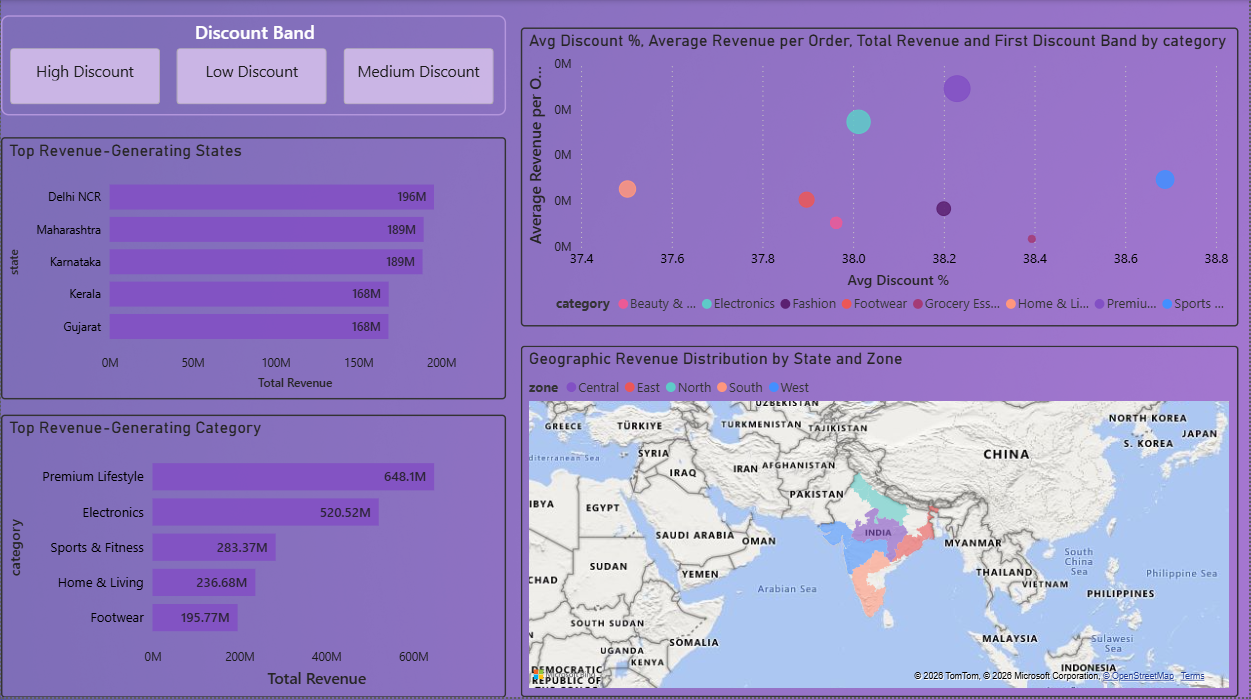

The page's visual inventory and layout, read from the dashboard file:
{"tool":"powerbi","page":{"name":"Executive Revenue Overview","canvas":[1280,720],"ordinal":1},"visuals":[{"type":"scatterChart","fields":{"X":["ecommerce_analytics ecommerce_pricing_revenue.Avg Discount %"],"Y":["ecommerce_analytics ecommerce_pricing_revenue.Average Revenue per Order"],"Size":["ecommerce_analytics ecommerce_pricing_revenue.Total Revenue"],"Series":["ecommerce_analytics ecommerce_pricing_revenue.category"]},"box":[533,33.3,735.6,306.7],"z":0},{"type":"advancedSlicerVisual","fields":{"Values":["ecommerce_analytics ecommerce_pricing_revenue.Discount Band"]},"box":[0,20.8,517.7,102.7],"z":1000},{"type":"clusteredBarChart","title":"Top Revenue-Generating Category","fields":{"Category":["ecommerce_analytics ecommerce_pricing_revenue.category"],"Y":["ecommerce_analytics ecommerce_pricing_revenue.Total Revenue"]},"box":[0,430.3,517.7,290.1],"z":2000},{"type":"filledMap","title":"Geographic Revenue Distribution by State and Zone","fields":{"Series":["ecommerce_analytics ecommerce_pricing_revenue.zone"],"Category":["ecommerce_analytics ecommerce_pricing_revenue.state"]},"box":[533,359.5,735.6,360.9],"z":3000},{"type":"barChart","title":"Top Revenue-Generating States","fields":{"Category":["ecommerce_analytics ecommerce_pricing_revenue.state"],"Y":["ecommerce_analytics ecommerce_pricing_revenue.Total Revenue"]},"box":[0,145.7,517.7,269.3],"z":4000}]}

Visuals, with their boxes in screenshot pixels (x1, y1, x2, y2), scaled from the page's 1280x720 canvas onto the 1251x700 screenshot:
scatterChart - ecommerce_analytics ecommerce_pricing_revenue.Avg Discount % x ecommerce_analytics ecommerce_pricing_revenue.Average Revenue per Order: pyautogui.locateOnScreen(521, 32, 1240, 331)
advancedSlicerVisual - ecommerce_analytics ecommerce_pricing_revenue.Discount Band: pyautogui.locateOnScreen(0, 20, 506, 120)
"Top Revenue-Generating Category" clusteredBarChart: pyautogui.locateOnScreen(0, 418, 506, 699)
"Geographic Revenue Distribution by State and Zone" filledMap: pyautogui.locateOnScreen(521, 350, 1240, 699)
"Top Revenue-Generating States" barChart: pyautogui.locateOnScreen(0, 142, 506, 403)
